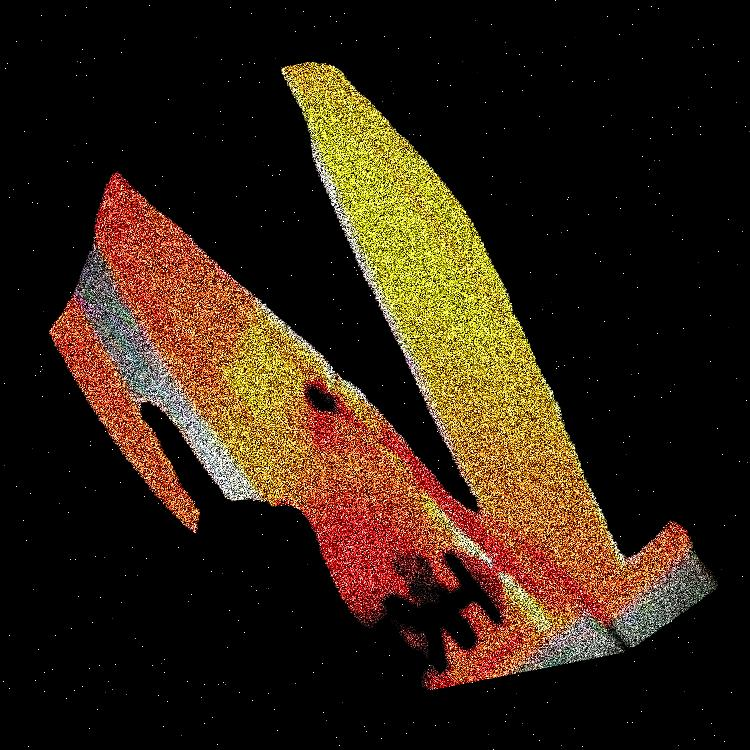Colete: (342, 0, 548, 749)
